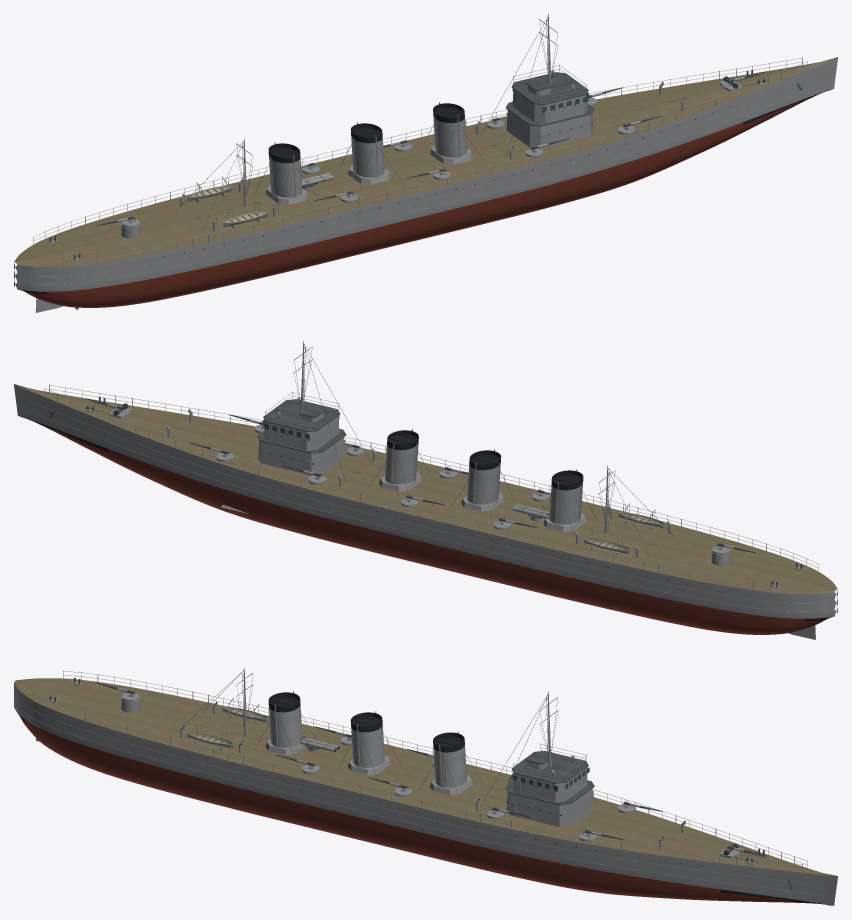
File: bremen_cl.glb
The picture shows the model from 3 angles, top to bottom: view 1: azimuth 30°, elevation 25°; view 2: azimuth 150°, elevation 25°; view 3: azimuth 330°, elevation 25°; orthographic projection.
Parts seen in each view (by area): view 1: Bremen class; view 2: Bremen class; view 3: Bremen class.
Boxes of the visible parts, x1,y1,x2,y2 form: Bremen class: (14, 14, 837, 312); Bremen class: (14, 341, 837, 639); Bremen class: (14, 668, 837, 905).
Size of the model in its own units: 111 by 22.74 by 13.39.
9 materials, 8 textured.
